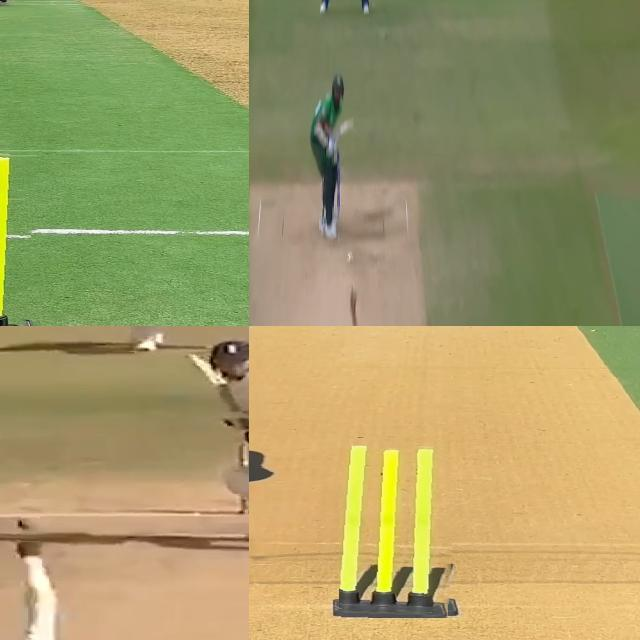Cricket ball: (12, 514, 40, 532), (348, 250, 353, 264)
Stumps: (339, 442, 459, 618), (0, 147, 37, 326)
